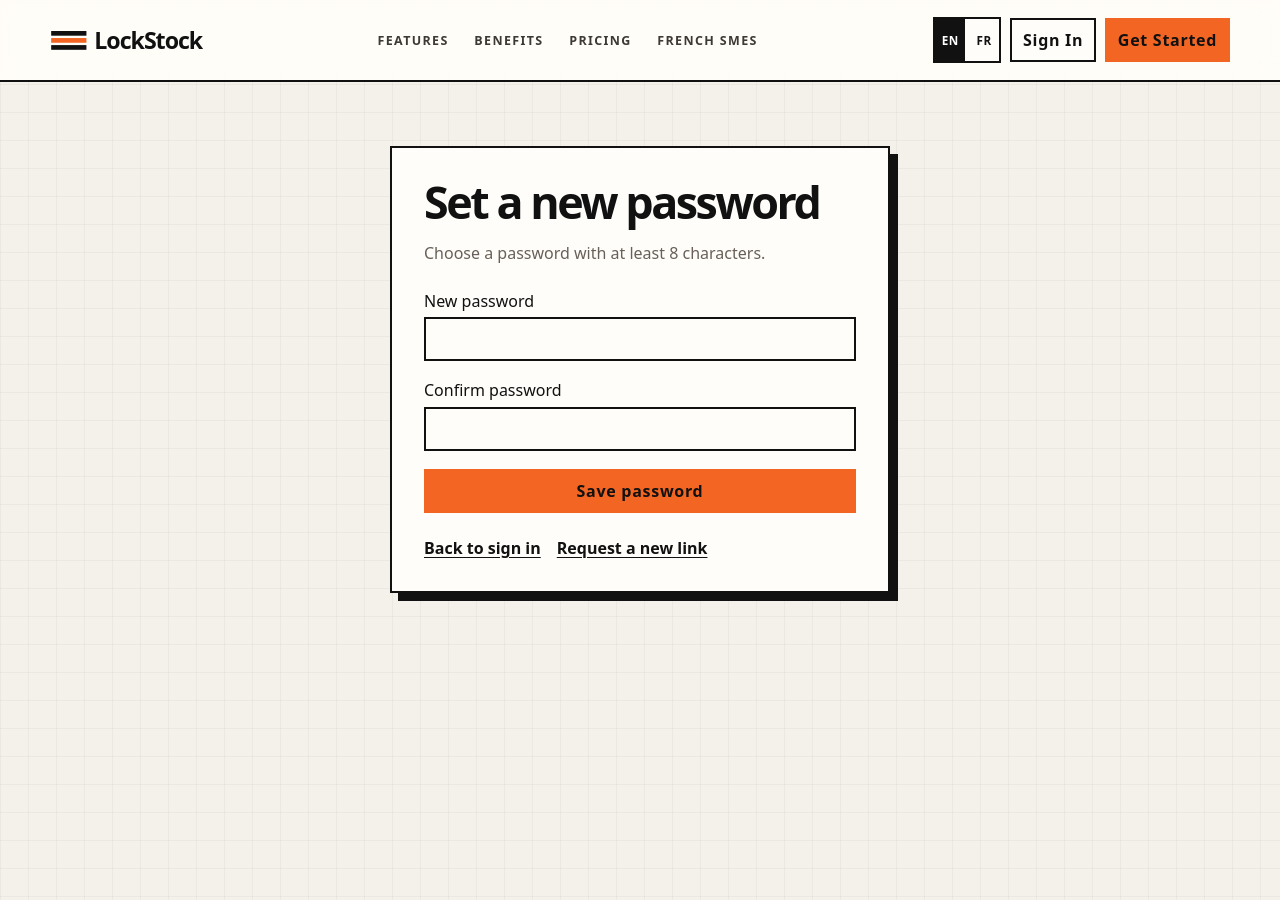
it: blocks mismatched passwords then saves and ends the recovery session
Type "new-password-123" into the password field labelled "New password" at (640, 339), box [424,317,856,361]
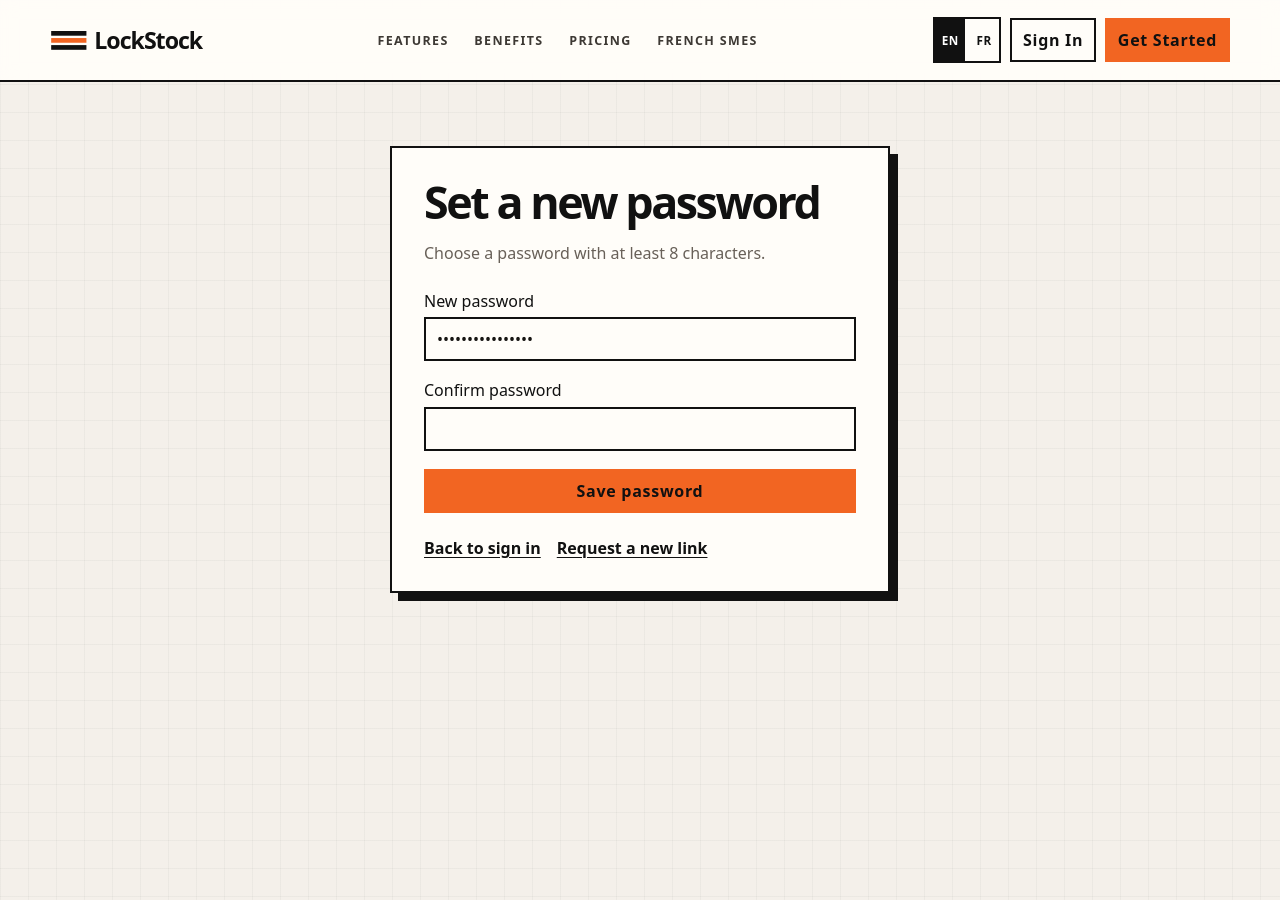
Type "different-password" into the password field labelled "Confirm password" at (640, 429), box [424,407,856,451]
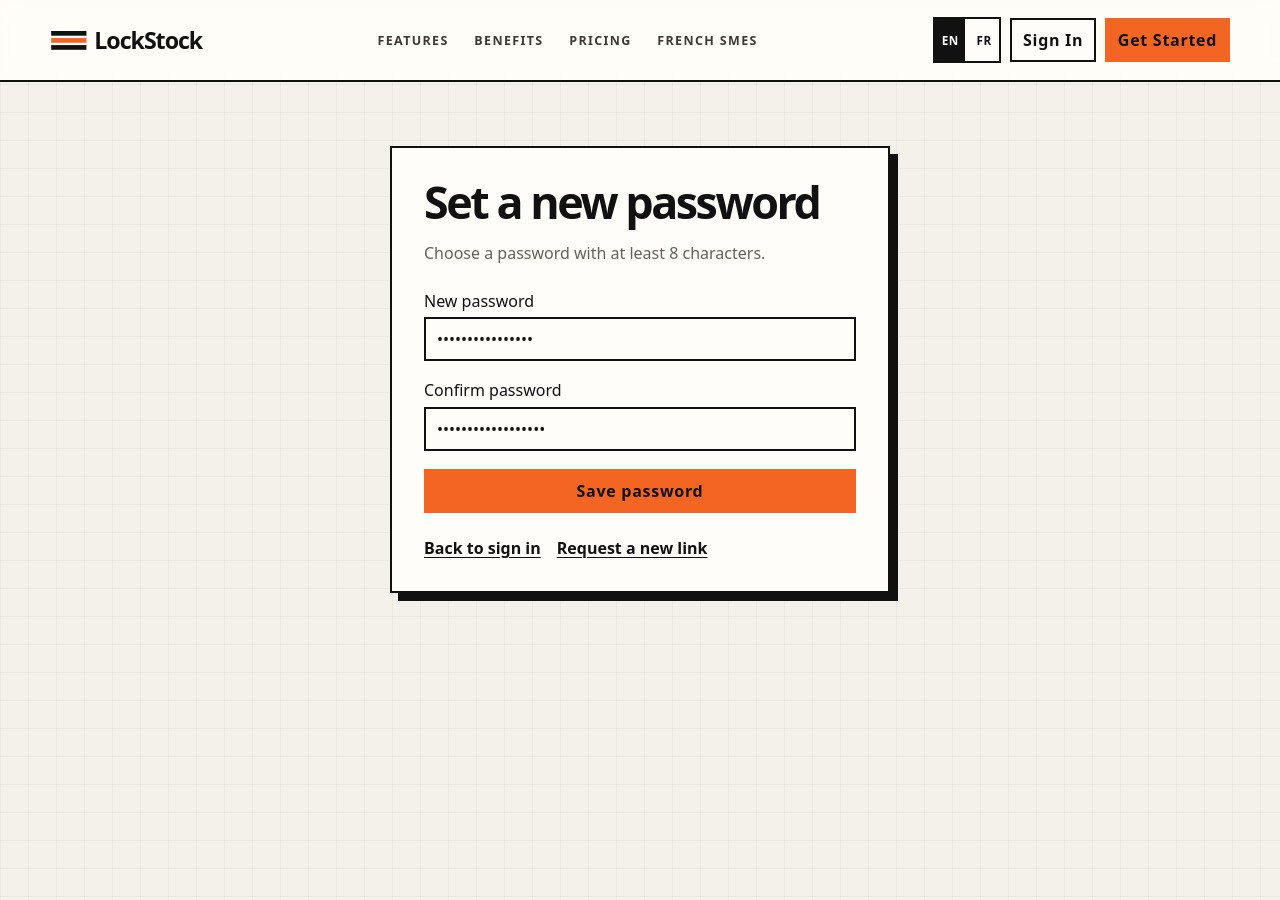
Click the button "Save password" at (640, 491), box [424,469,856,513]
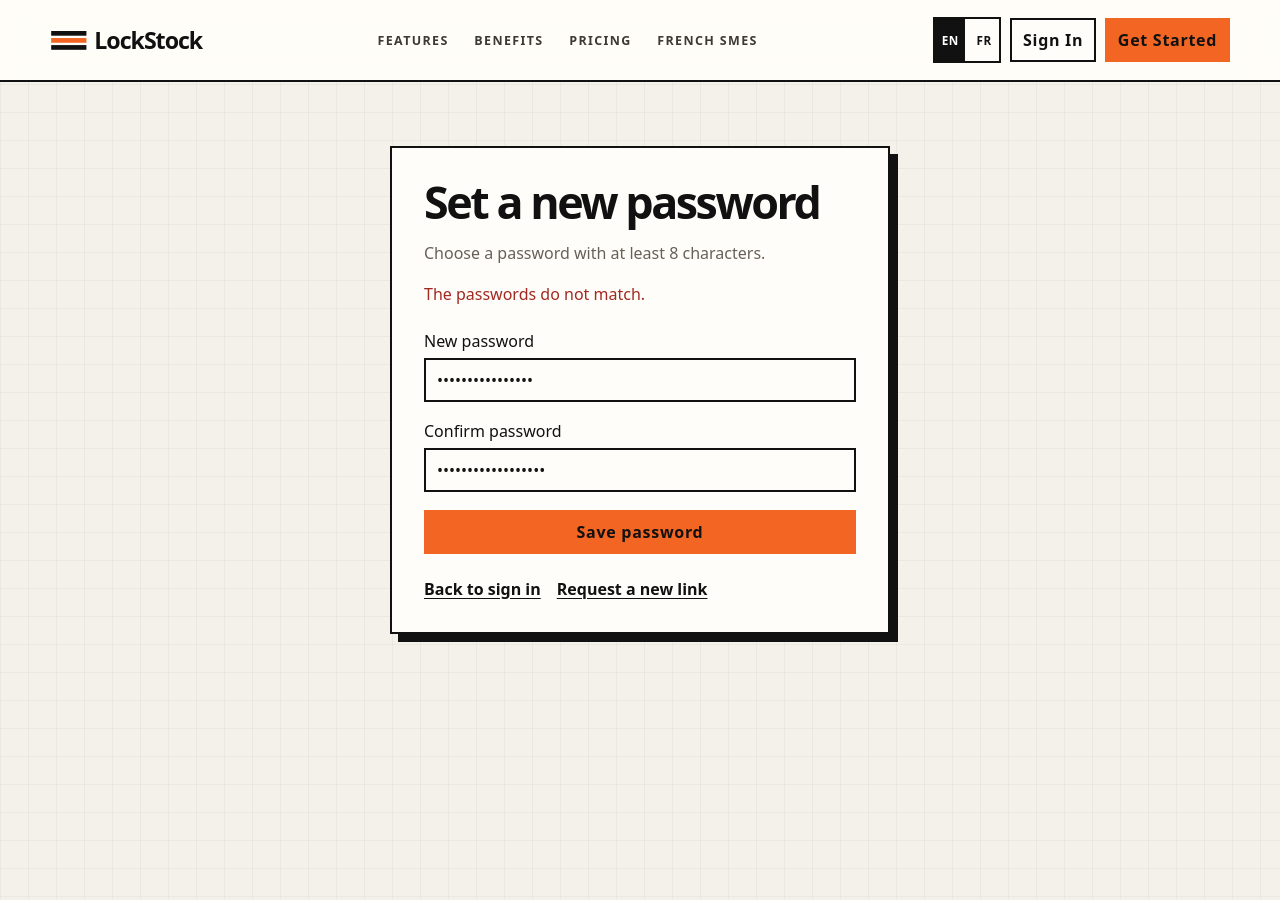
Expected: the message shows "do not match", [424,283,645,305]
Type "new-password-123" into the password field labelled "Confirm password" at (640, 470), box [424,448,856,492]
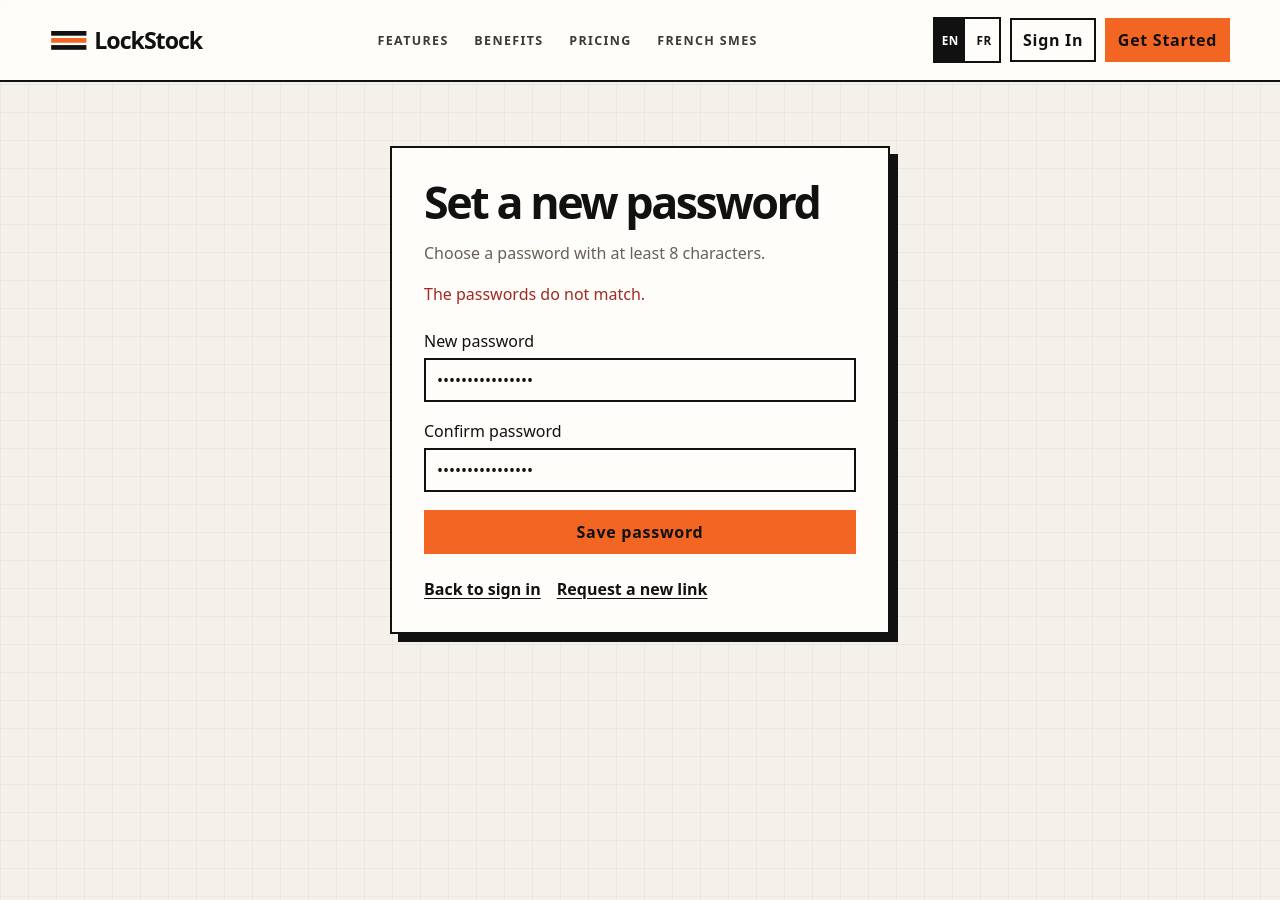
Click the button "Save password" at (640, 532), box [424,510,856,554]
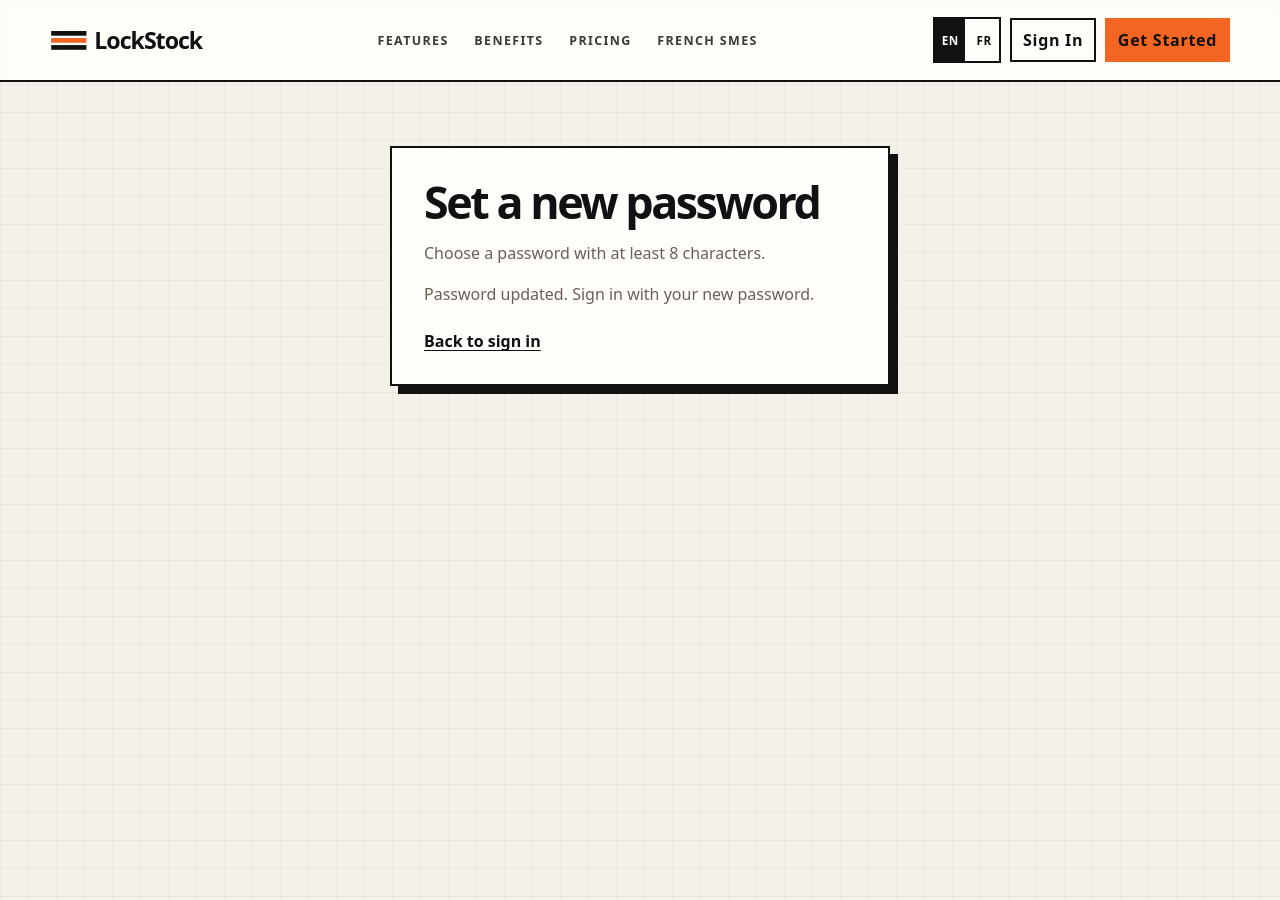
Expected: the text "Password updated. Sign in with your new password." is shown, [424,282,856,306]
